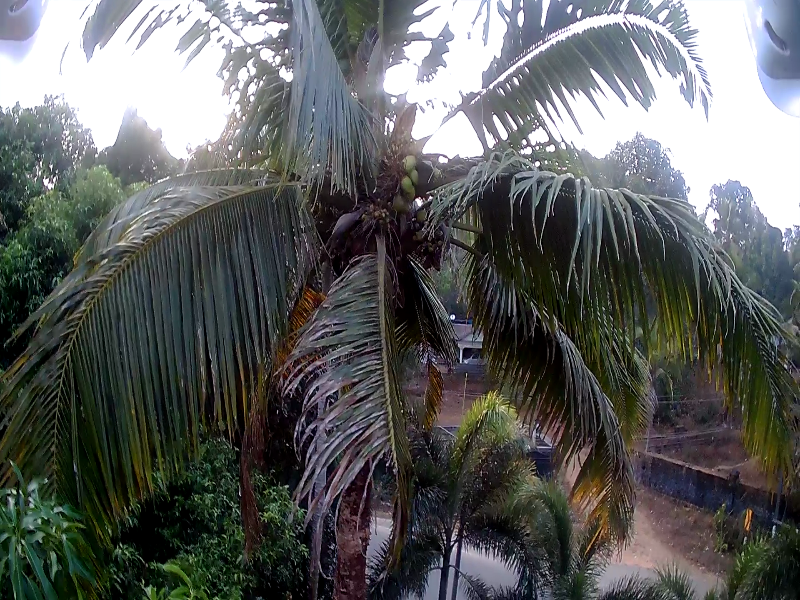coconut: (364, 205, 382, 228), (389, 195, 406, 217), (407, 165, 421, 183), (398, 180, 413, 195), (402, 154, 417, 167), (415, 207, 425, 220)
